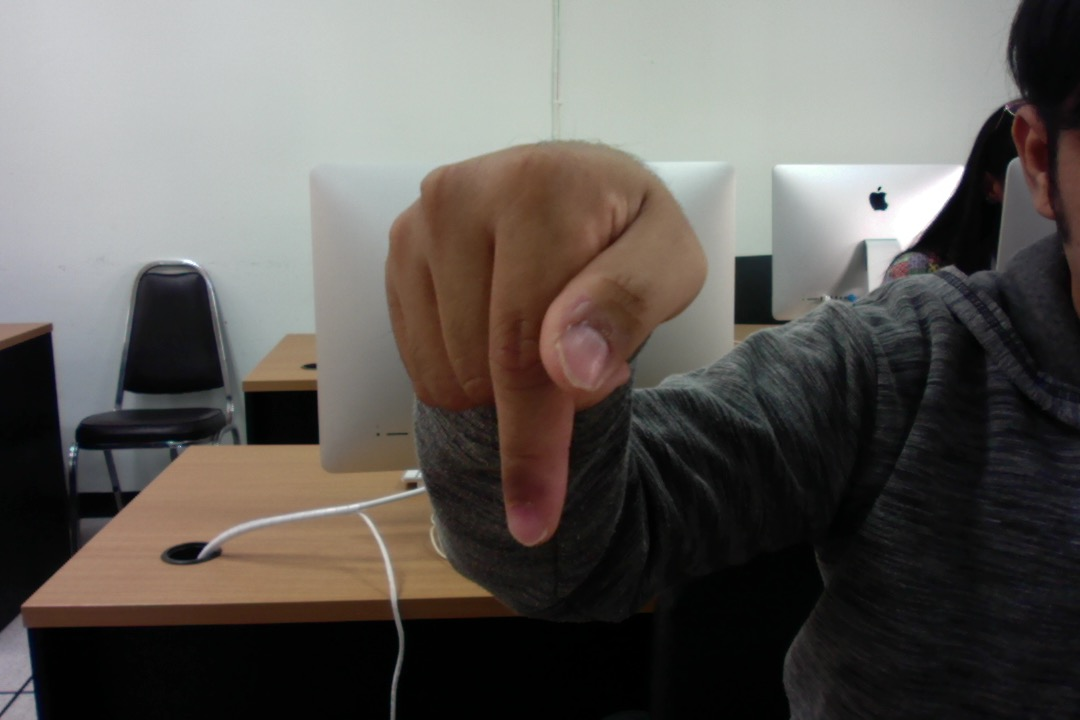por: (374, 125, 712, 547)
